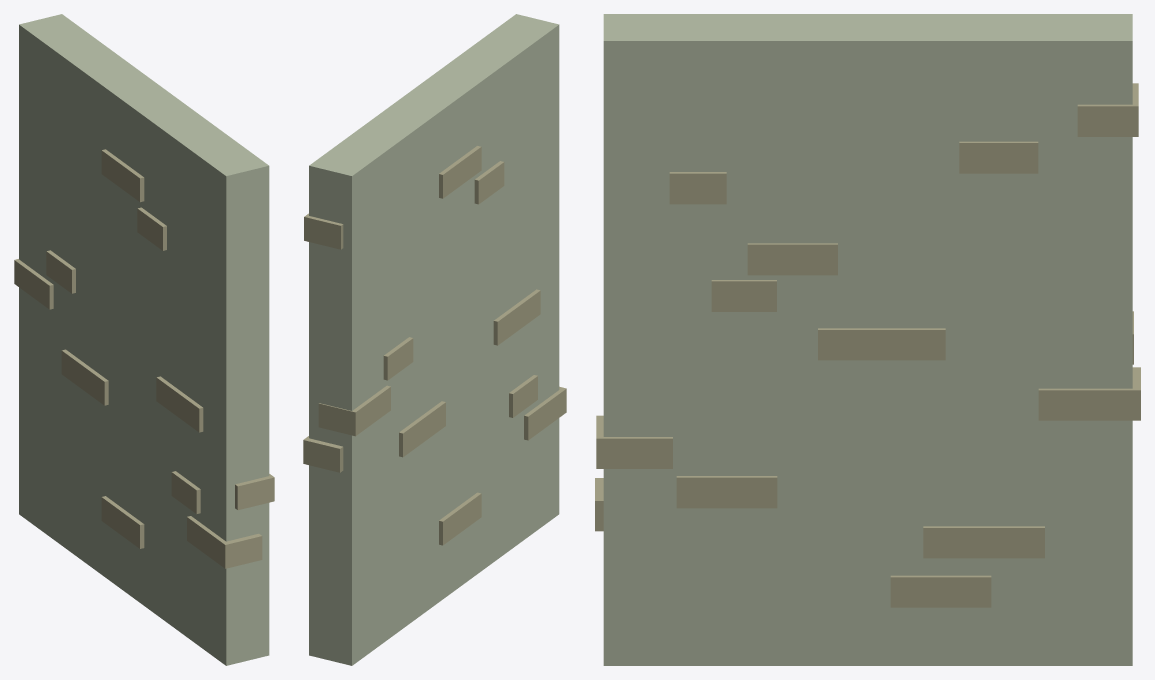
Rendered from wall5m stone1.fbx.
3 views of the same model, side by side, from view 1: azimuth 30°, elevation 25°; view 2: azimuth 150°, elevation 25°; view 3: azimuth 270°, elevation 25° (orthographic). The views are drawn at different scales.
Visible parts, largest first — view 1: Wall 5m; view 2: Wall 5m; view 3: Wall 5m.
Part boxes in pixels (<box>): Wall 5m: <box>14,14,274,665</box>; Wall 5m: <box>303,14,566,665</box>; Wall 5m: <box>595,14,1140,665</box>.
Size of the model in its own units: 69.4 by 652 by 516.
